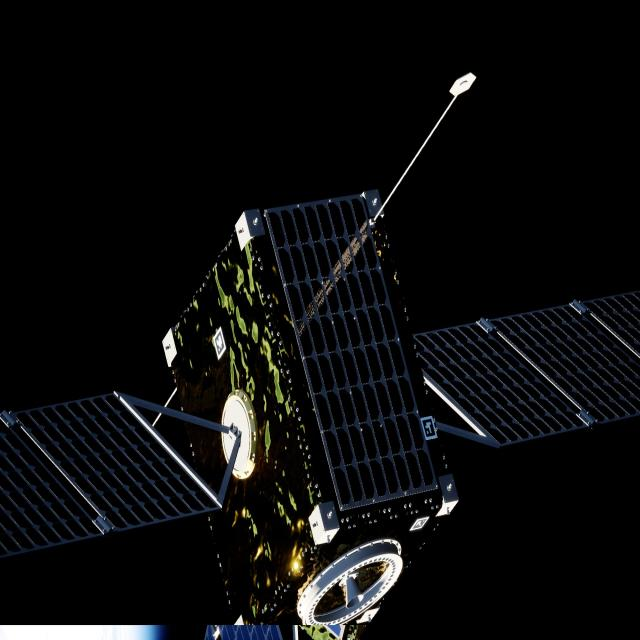medium_debris: (0, 190, 640, 640)
